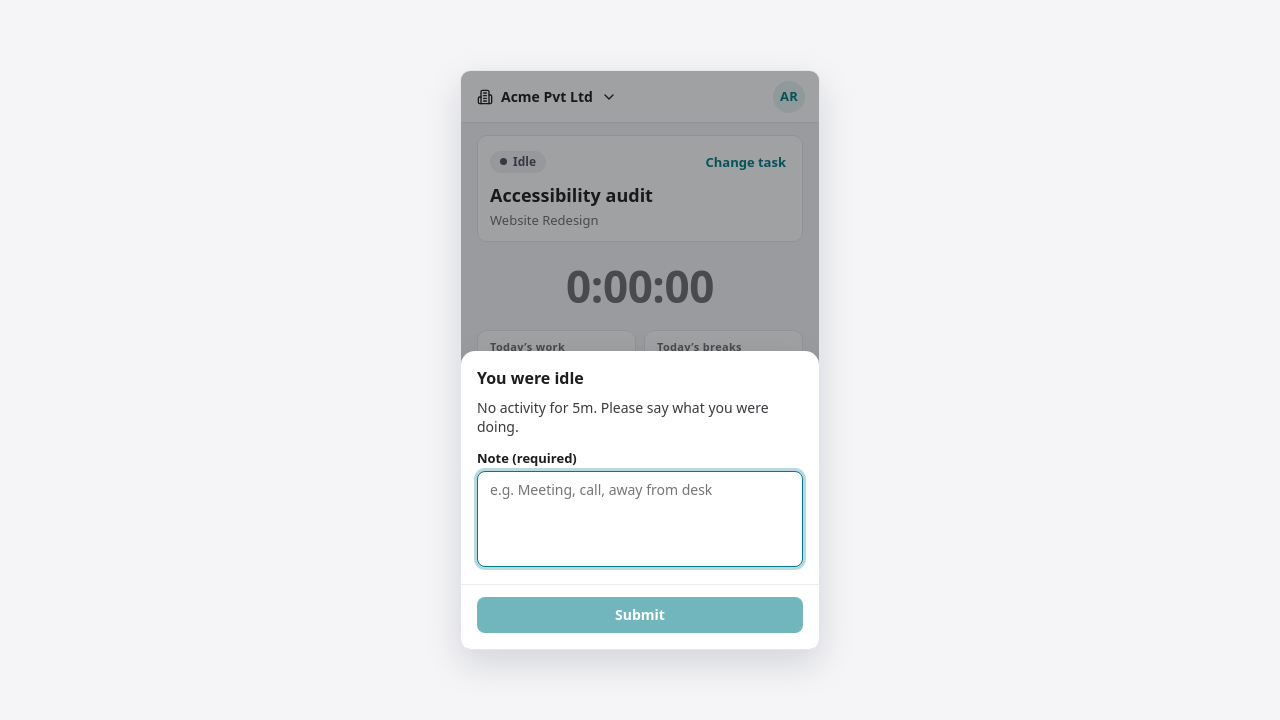
prompts › idle note: mandatory has no Skip, optional does; submit sends the text
Later steps or results of the test are not shown.
Expected: the button "Submit" is disabled, [477,597,803,633]
Step 1. Type "In a meeting" into the text box → (640, 519), box [477,471,803,567]
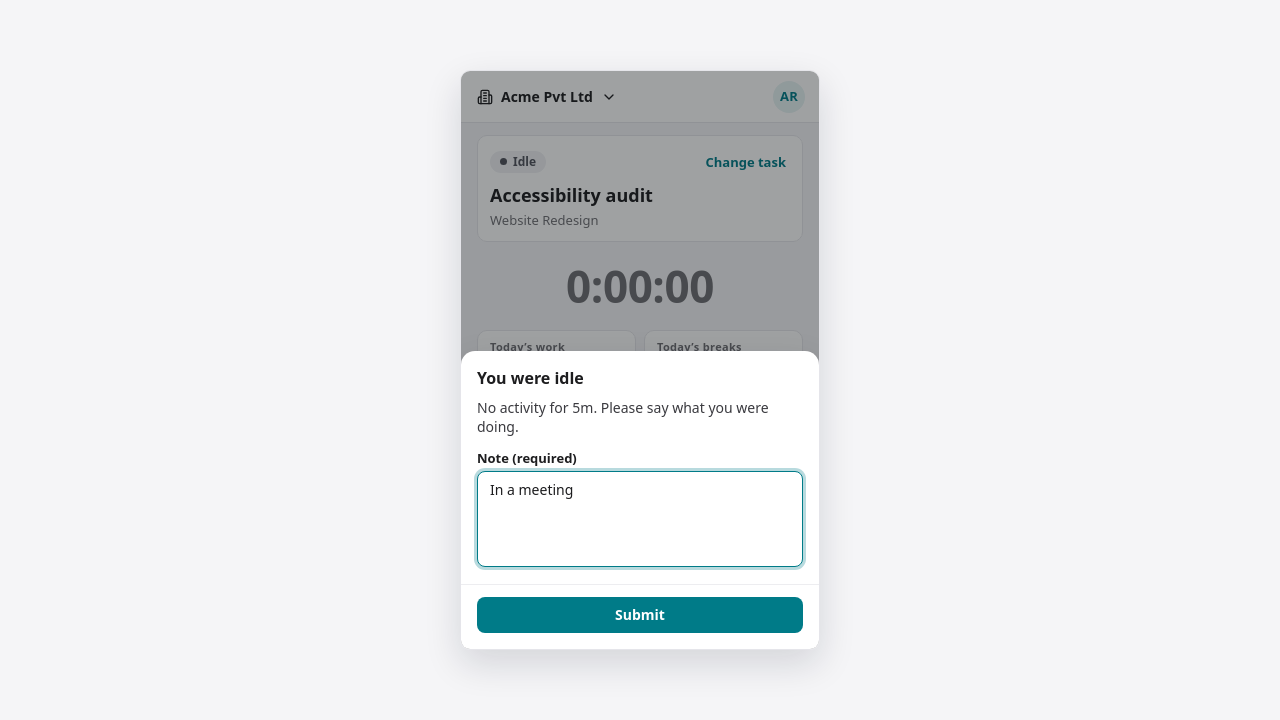
Step 2. Click the button "Submit" → (640, 615), box [477,597,803,633]
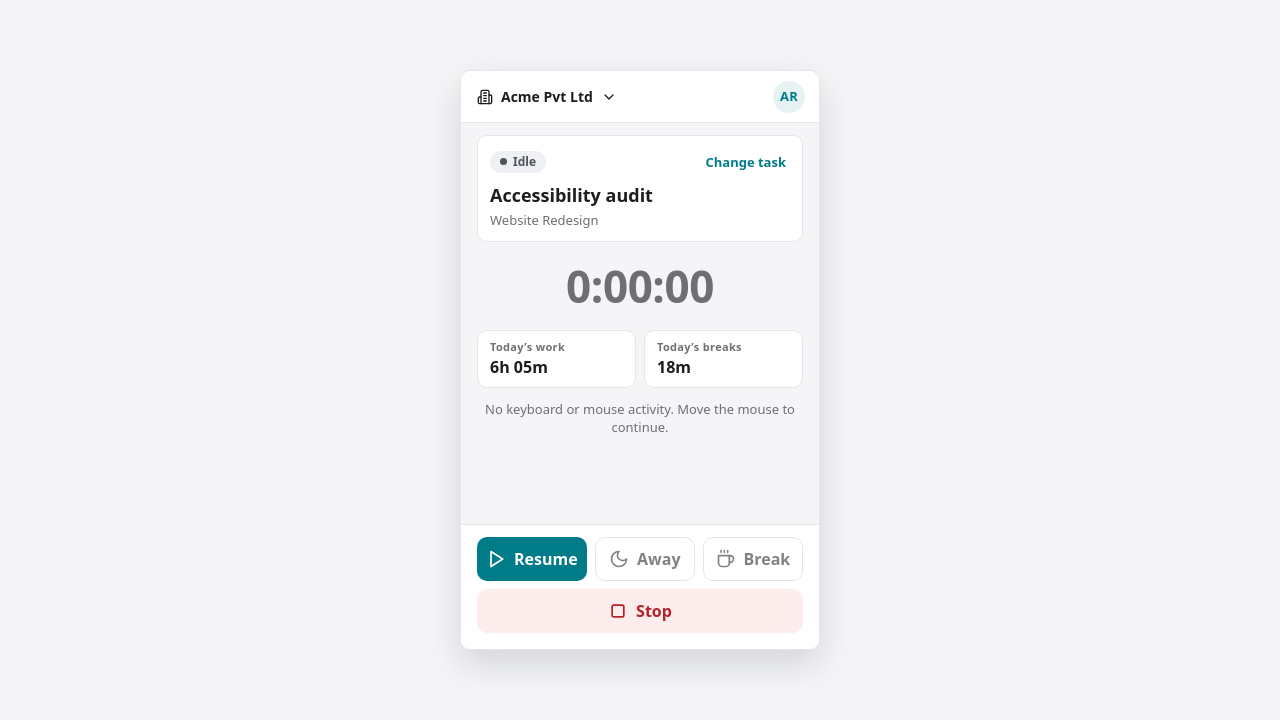
Expected: the dialog is gone
